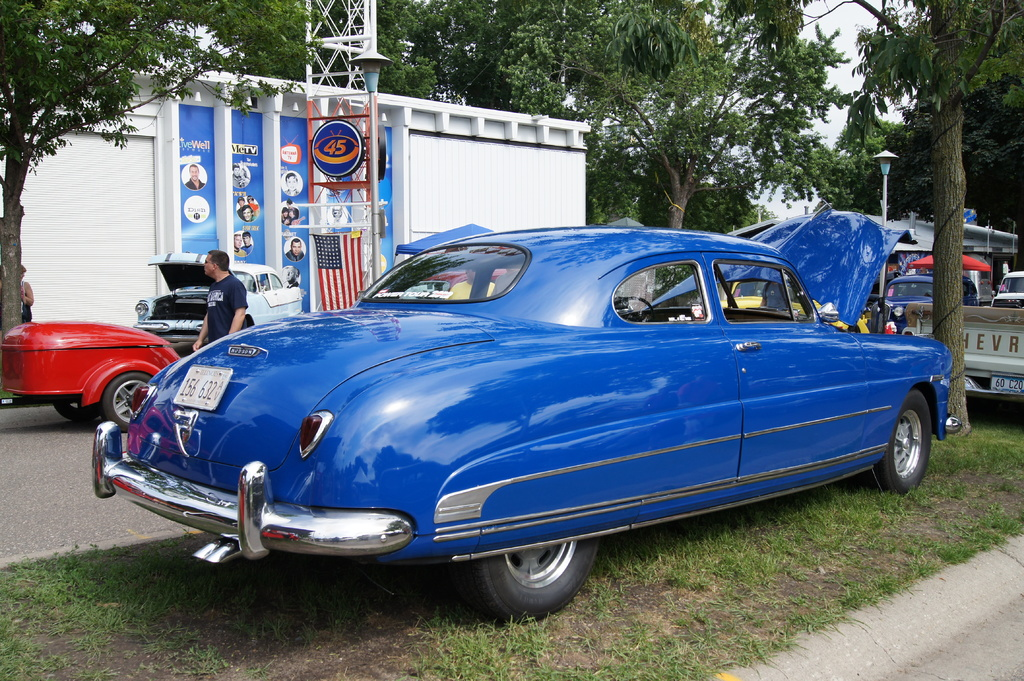Car: (97, 232, 967, 625), (0, 319, 181, 436), (131, 248, 308, 346), (899, 298, 1023, 405), (719, 280, 869, 333), (872, 273, 934, 341), (401, 268, 520, 300), (994, 270, 1023, 309)
